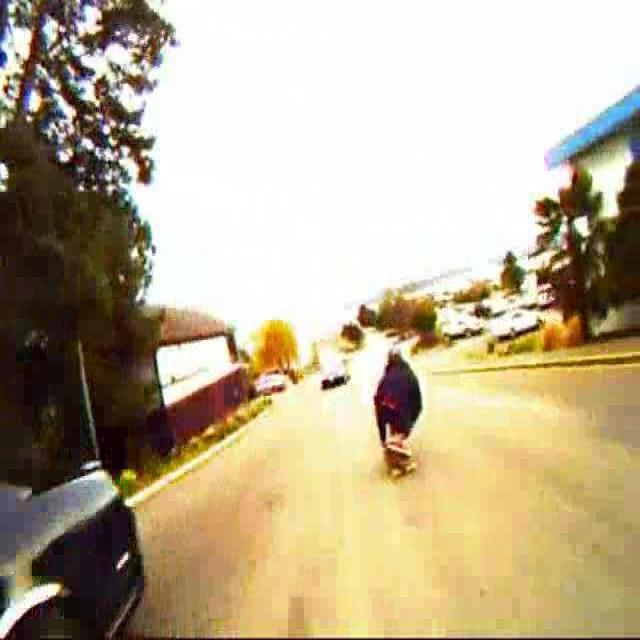other: (154, 336, 240, 396), (251, 310, 305, 375), (375, 424, 427, 482), (534, 304, 590, 355), (353, 321, 385, 370)
